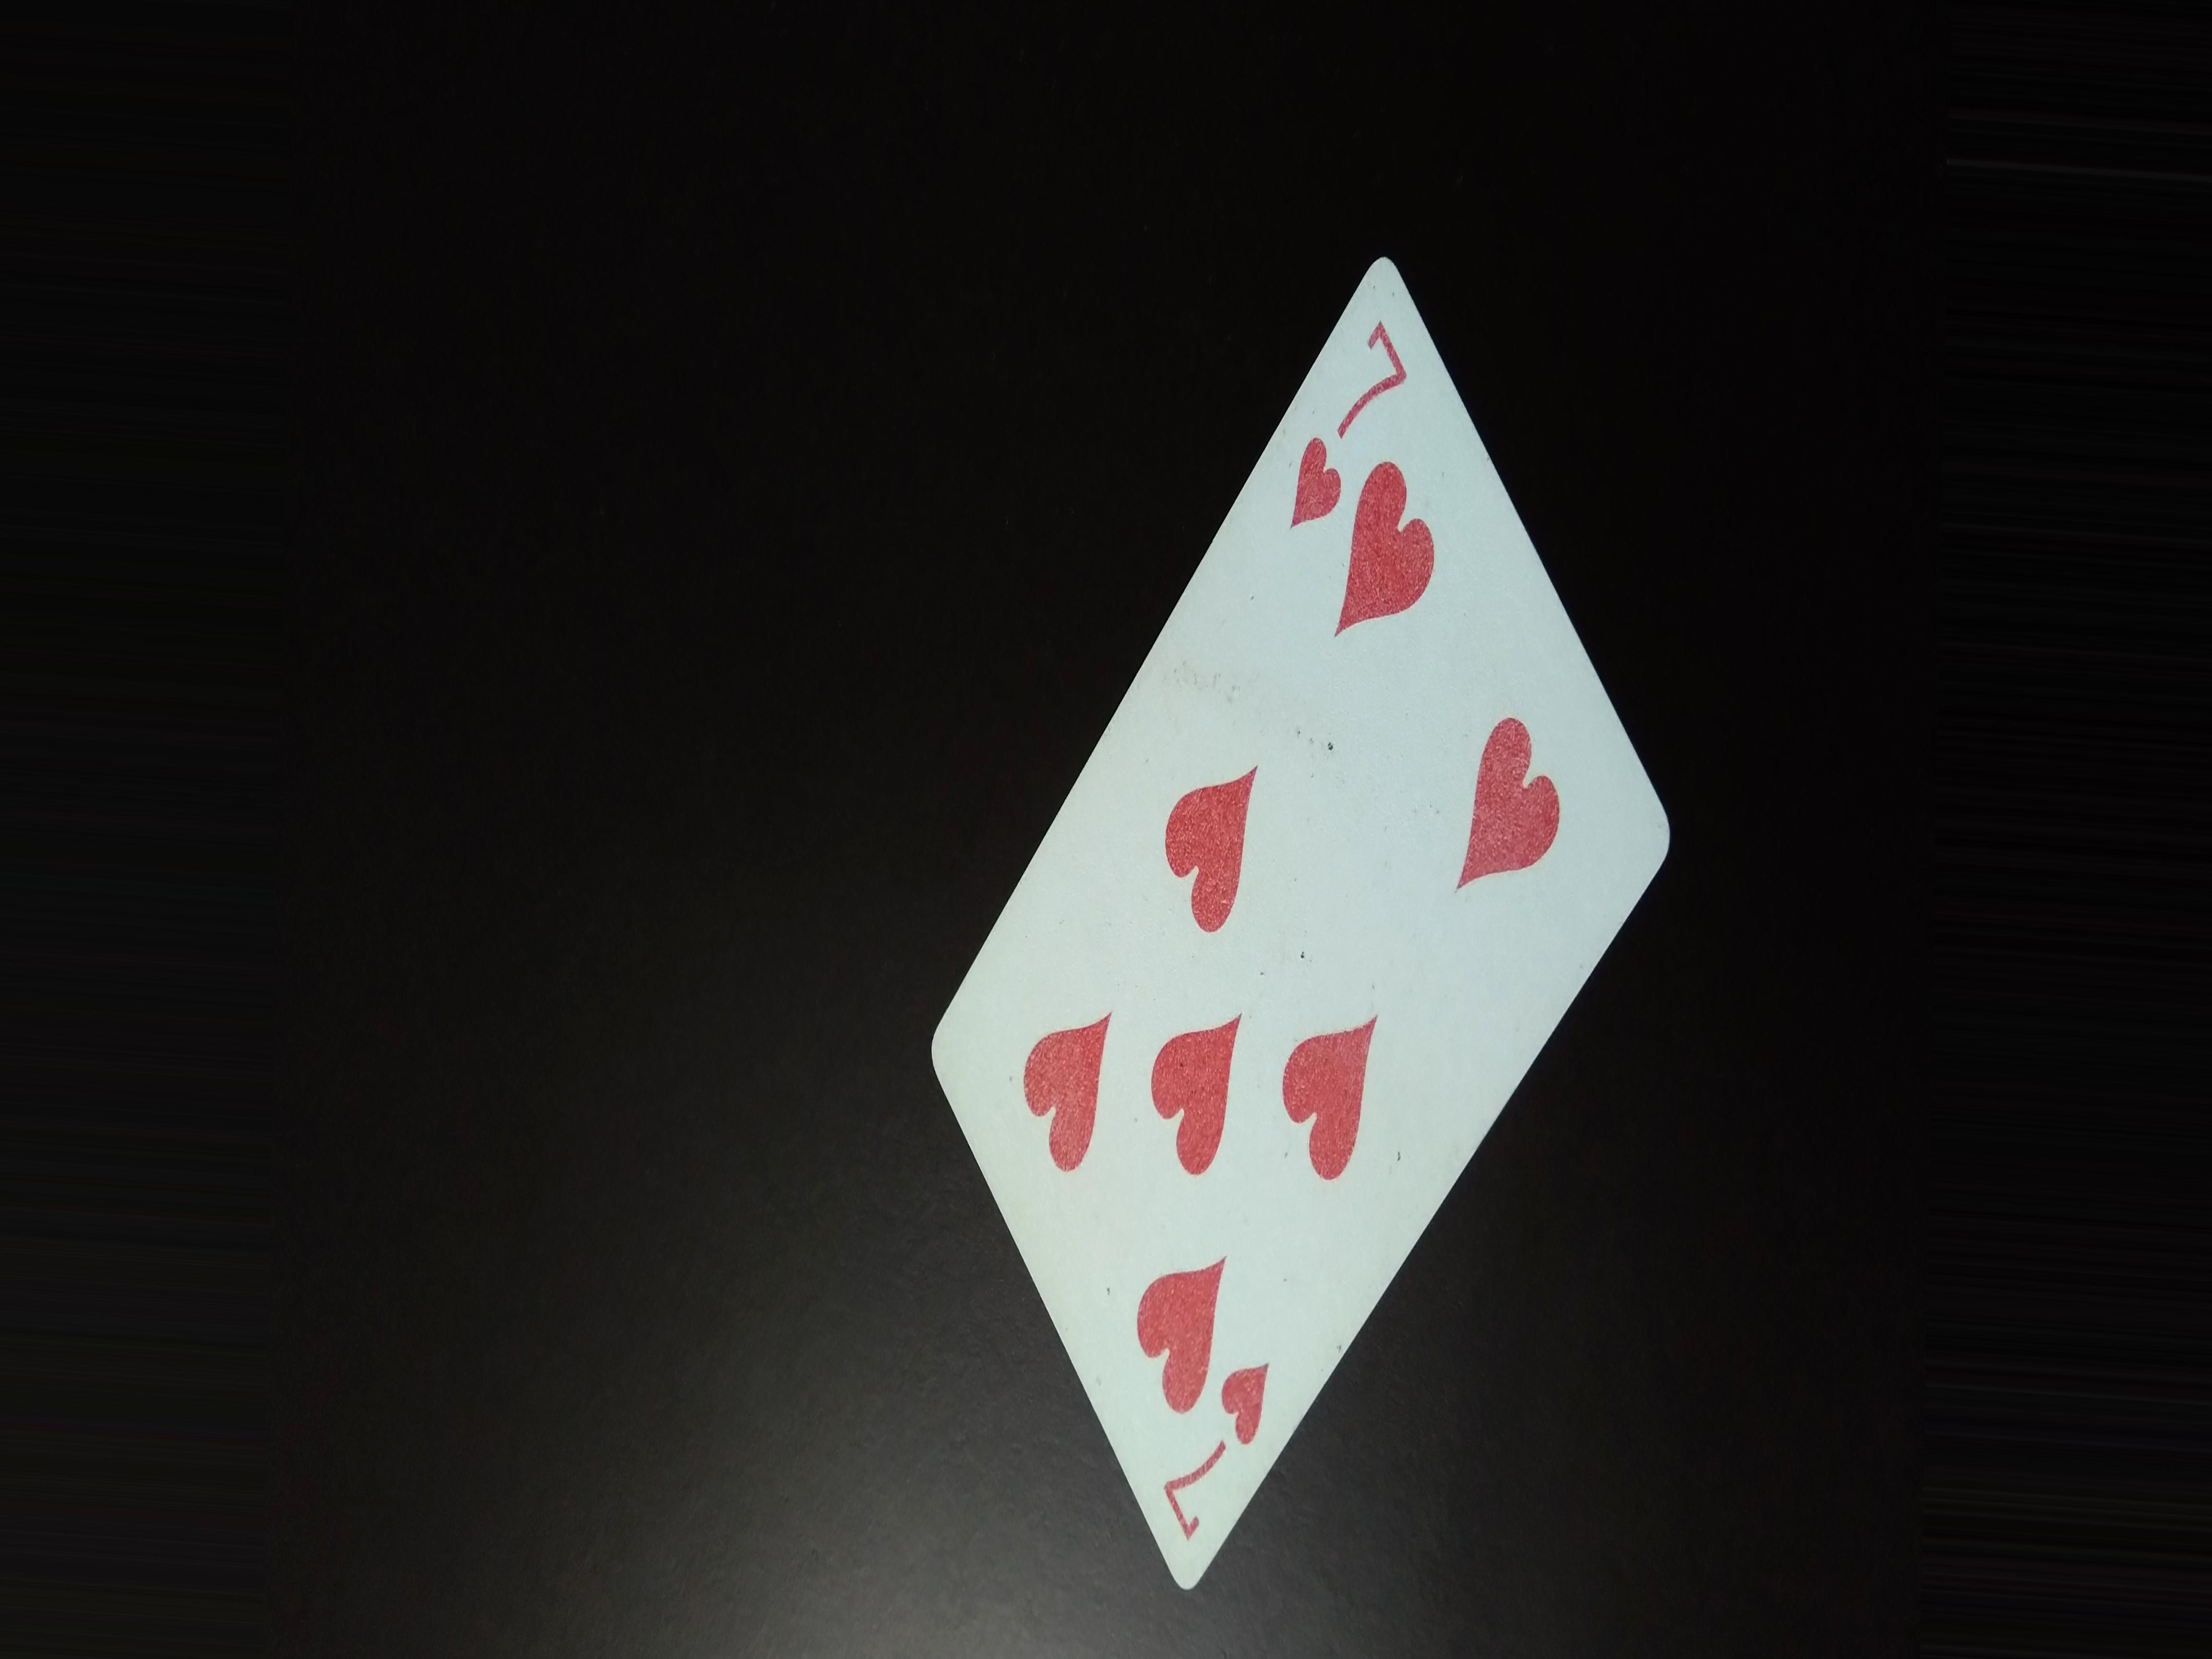7H: (1270, 300, 1426, 535)
